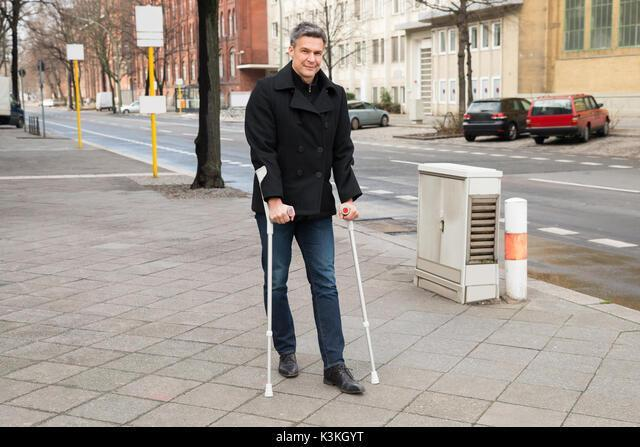crutches: (241, 19, 387, 407)
